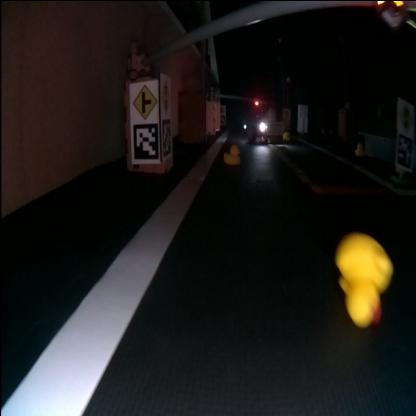Duckie: (335, 232, 394, 325), (224, 143, 240, 162), (355, 142, 363, 154), (283, 130, 290, 139)
Duckiebot: (243, 116, 283, 140)
Intersection sign: (132, 84, 156, 118)
QR code: (134, 122, 158, 158), (398, 132, 412, 166), (162, 117, 171, 156)
Signal sign: (398, 102, 413, 130), (160, 78, 170, 115)
Traffic light: (374, 1, 407, 25)
